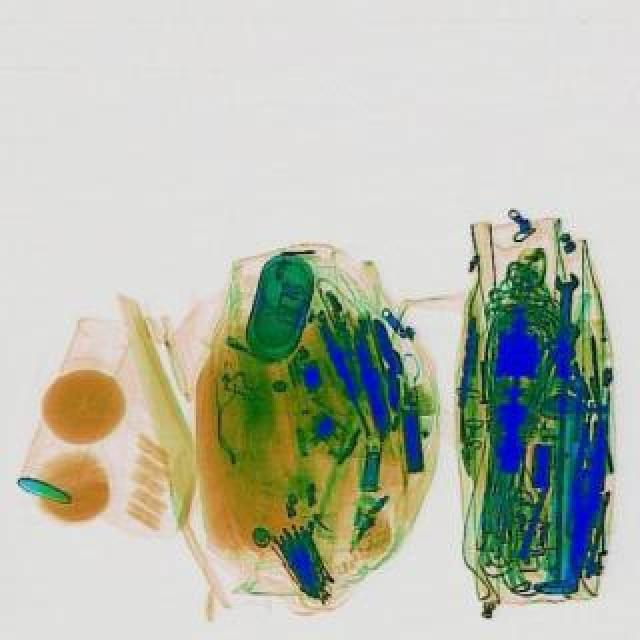scissors: (550, 272, 580, 360)
wrench: (560, 418, 610, 580)
